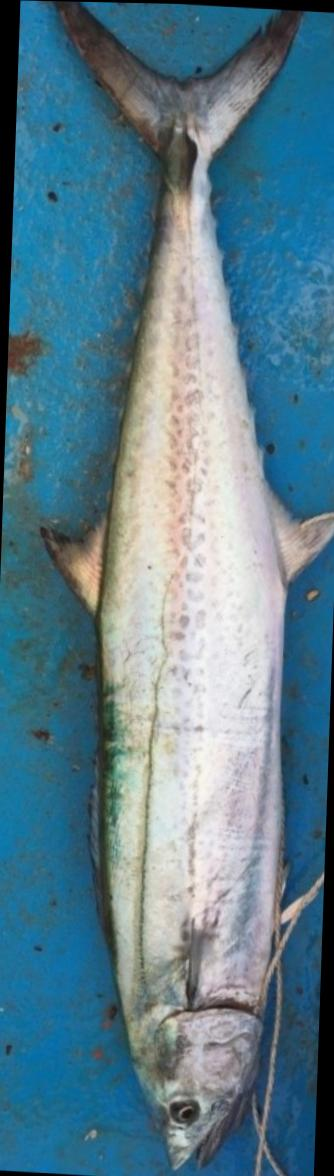fish: (41, 1, 334, 1169)
